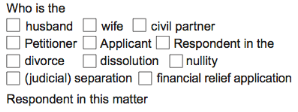checkbox: (5, 17, 21, 33), (4, 34, 20, 50), (4, 53, 20, 69), (4, 70, 20, 86), (136, 70, 152, 86), (81, 53, 97, 69), (81, 34, 97, 50), (81, 16, 97, 32), (131, 16, 147, 32), (154, 34, 170, 50), (167, 52, 183, 68)
